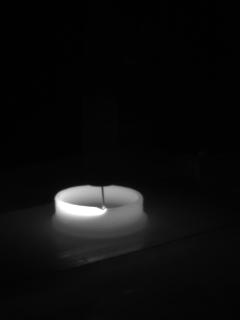tip_wire_left: (87, 179, 105, 209)
tip_wire_right: (102, 179, 116, 210)
